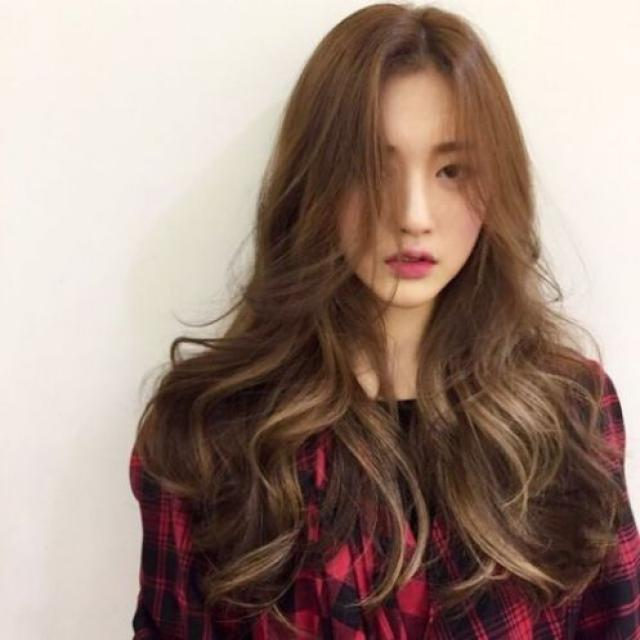Nonhelmet: (275, 8, 509, 316)
